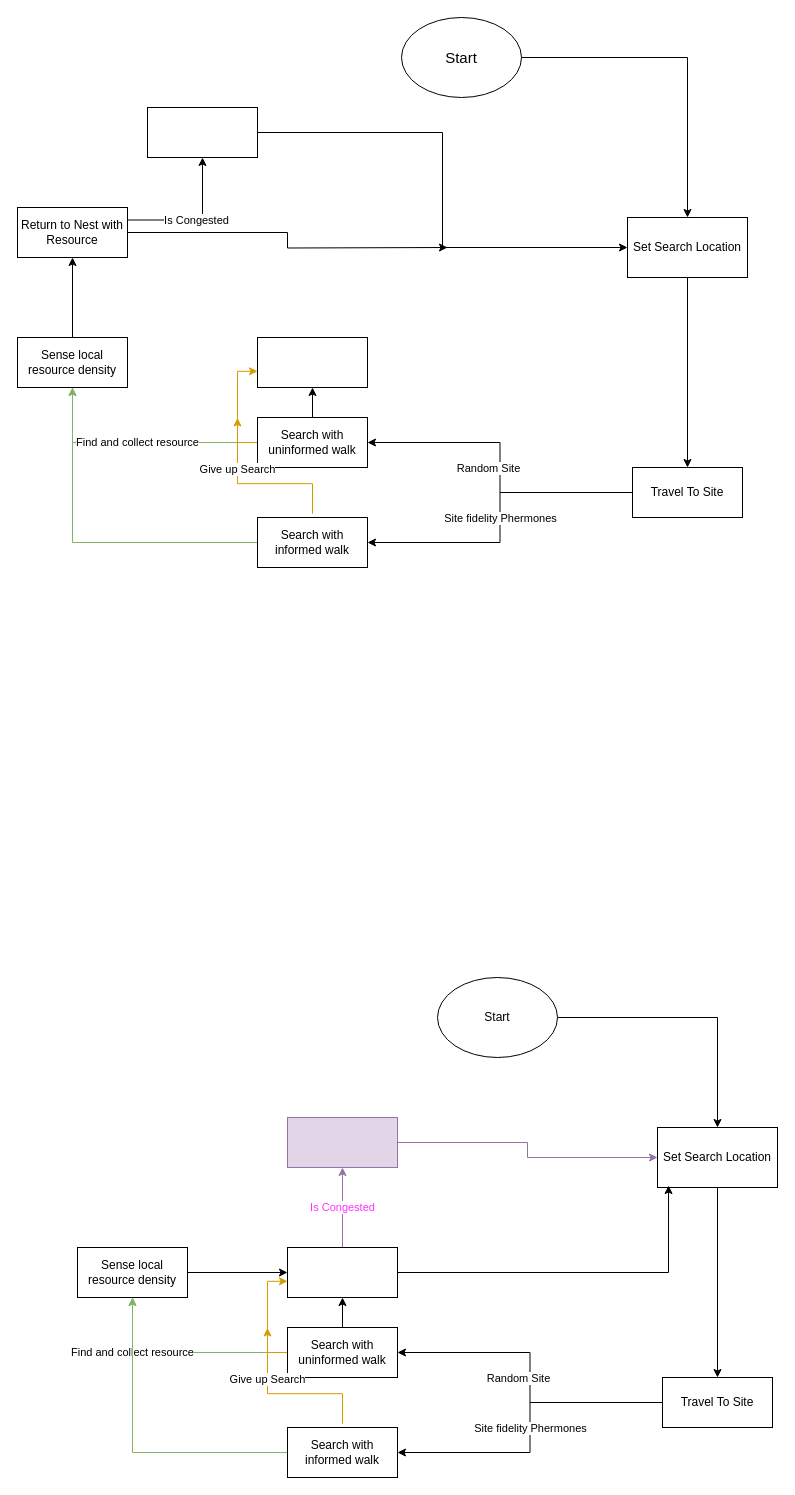
Image size: 795x1495. Some labels were removed from this diagram. Each missing label, with the centre of its shape:
"Dropoff resource" goes at point (202, 132).
"Dropoff Resource/Stop returning to nest" goes at point (342, 1142).
"Return to Nest" goes at point (342, 1272).
"Return to Nest with no resource" goes at point (312, 362).
